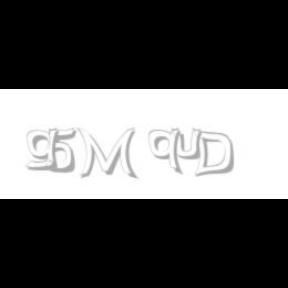5: (46, 128, 76, 174)
D: (192, 128, 234, 178)
M: (76, 128, 136, 180)
g: (26, 128, 62, 171)
q: (148, 128, 184, 176)
u: (171, 128, 206, 160)
